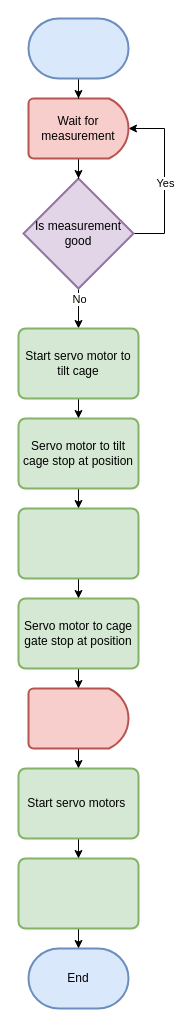
The diagram is 191 pixels wide and 1026 high, and some of its shapes have lost their labels. Each missing label, with the centre of its shape:
Start: the point at 78,48
Start servo motor to cage gate: the point at 78,543
Stop servo motors at 0 position: the point at 78,893
Wait for a amount of time: the point at 78,718
